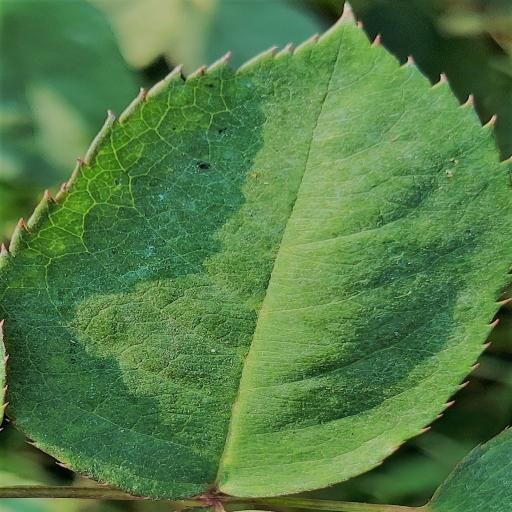healthy_leaf: (0, 9, 512, 512)
